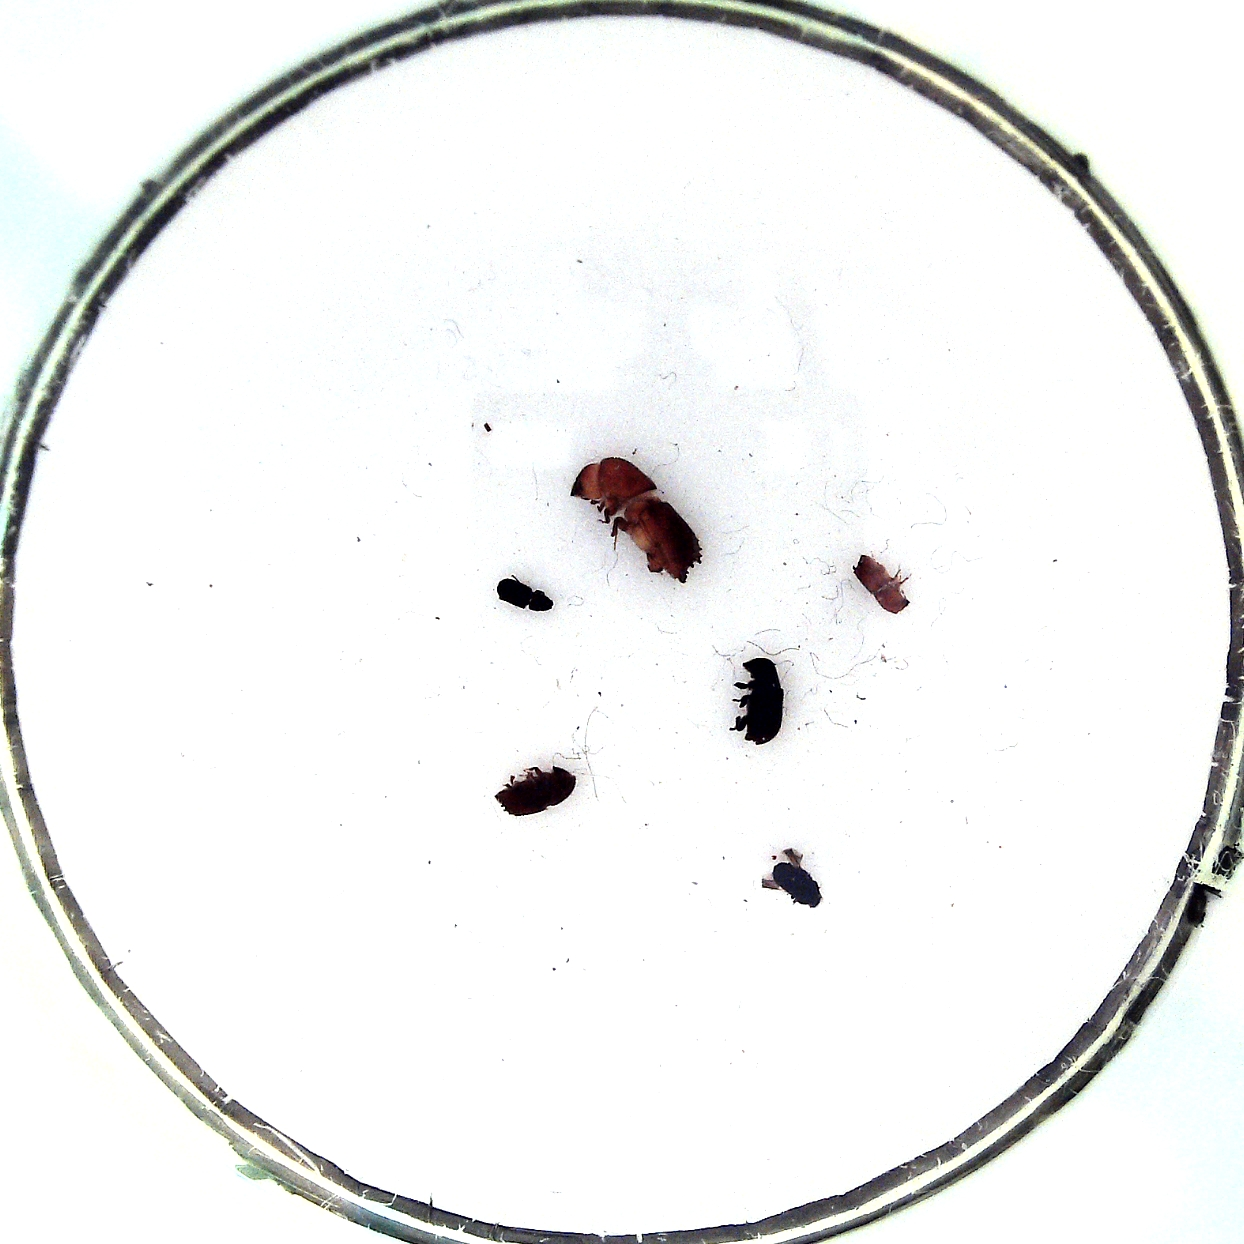Boerner: (568, 456, 702, 584)
acuminatus: (774, 862, 821, 909), (496, 578, 554, 612)
armandi: (740, 657, 784, 745)
coleoptera: (853, 553, 909, 614)
linnaeus: (496, 766, 576, 816)
